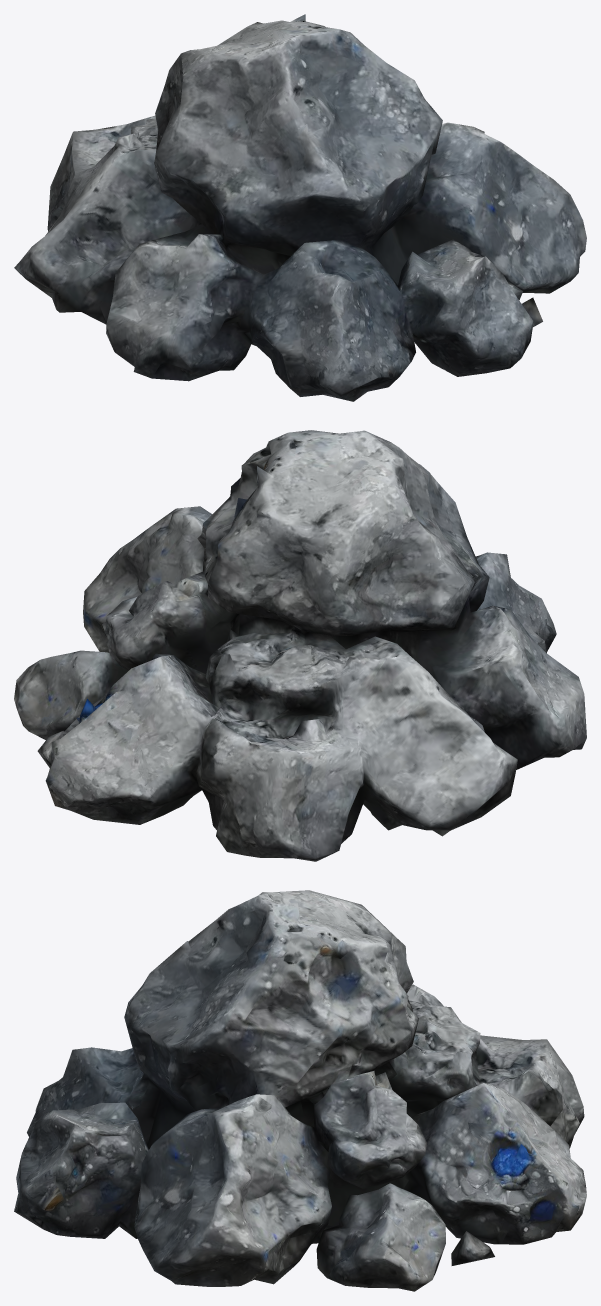
Rendered from qr_ore2.glb.
The picture shows the model from 3 angles, top to bottom: view 1: azimuth 30°, elevation 25°; view 2: azimuth 150°, elevation 25°; view 3: azimuth 270°, elevation 25°; orthographic projection. The views are drawn at different scales.
Parts seen in each view (by area): view 1: tripo_node_d6db3f57-b52c-43f5-b689-e43706910540; view 2: tripo_node_d6db3f57-b52c-43f5-b689-e43706910540; view 3: tripo_node_d6db3f57-b52c-43f5-b689-e43706910540.
Boxes of the visible parts, x1,y1,x2,y2 form: tripo_node_d6db3f57-b52c-43f5-b689-e43706910540: [14, 14, 586, 401]; tripo_node_d6db3f57-b52c-43f5-b689-e43706910540: [14, 430, 586, 861]; tripo_node_d6db3f57-b52c-43f5-b689-e43706910540: [14, 890, 586, 1291].
Bounding box in the file's own units: 0.9467 × 0.538 × 1.
1 material, 1 textured.
